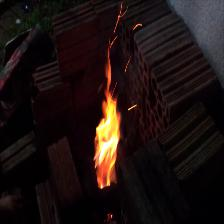fire: (85, 31, 141, 193)
